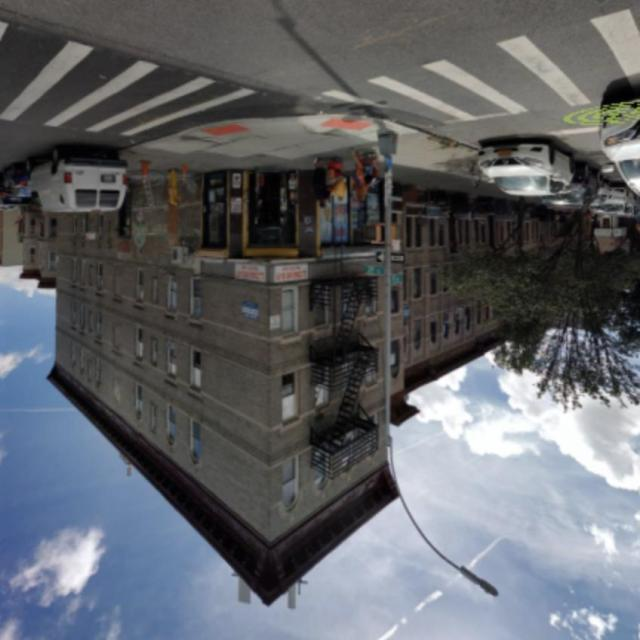off: (417, 532, 534, 635)
